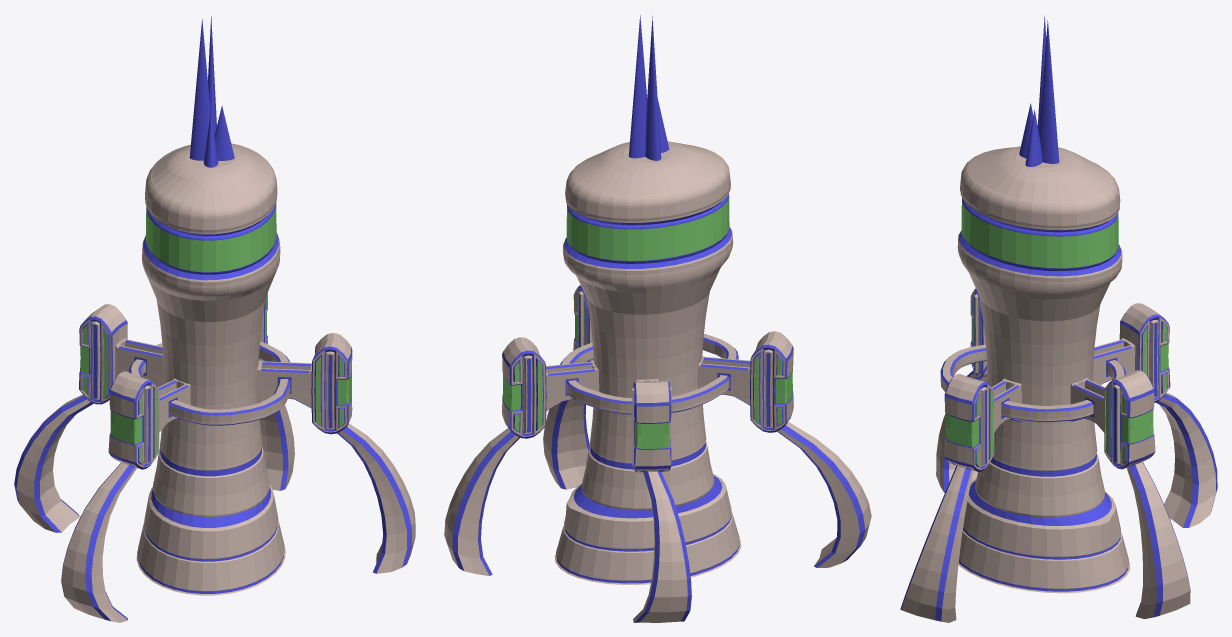
Rendered from Laboratoire_M_MC.fbx.
3 views of the same model, side by side, from view 1: azimuth 30°, elevation 25°; view 2: azimuth 150°, elevation 25°; view 3: azimuth 270°, elevation 25° (orthographic).
Parts seen in each view (by area): view 1: Lab Lvl 1; view 2: Lab Lvl 1; view 3: Lab Lvl 1.
Part boxes in pixels (box(x1,y1,x2,y2)): Lab Lvl 1: box(14, 16, 415, 622); Lab Lvl 1: box(444, 15, 871, 622); Lab Lvl 1: box(900, 16, 1217, 622).
Size of the model in its own units: 1219 by 1861 by 989.
